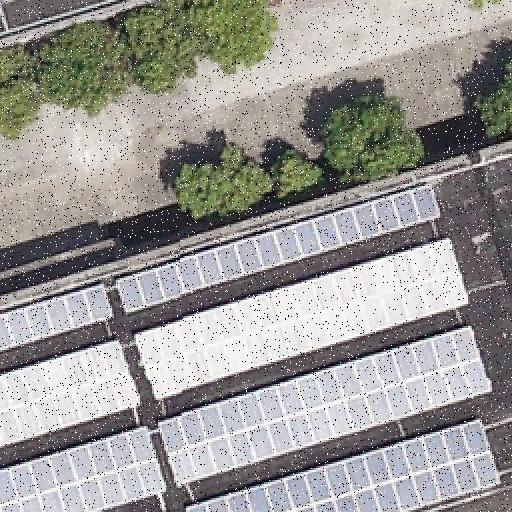solar-panel: (155, 321, 493, 487), (133, 240, 467, 396), (117, 183, 443, 313), (185, 416, 503, 512), (0, 338, 140, 450), (1, 425, 167, 511), (0, 282, 112, 354)
